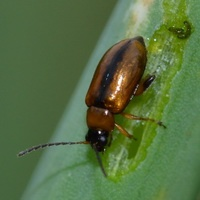insect: (18, 36, 164, 154), (168, 21, 190, 38)
